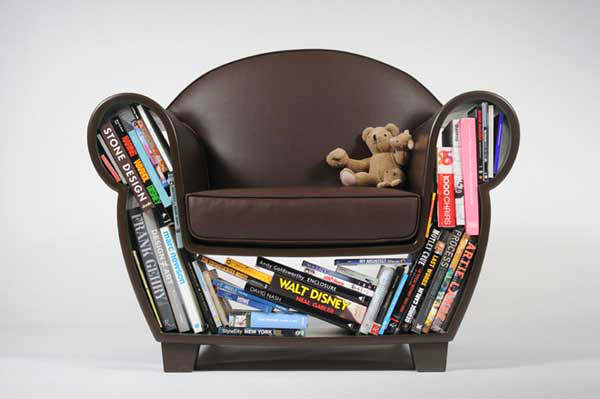chairs: (84, 47, 524, 376)
